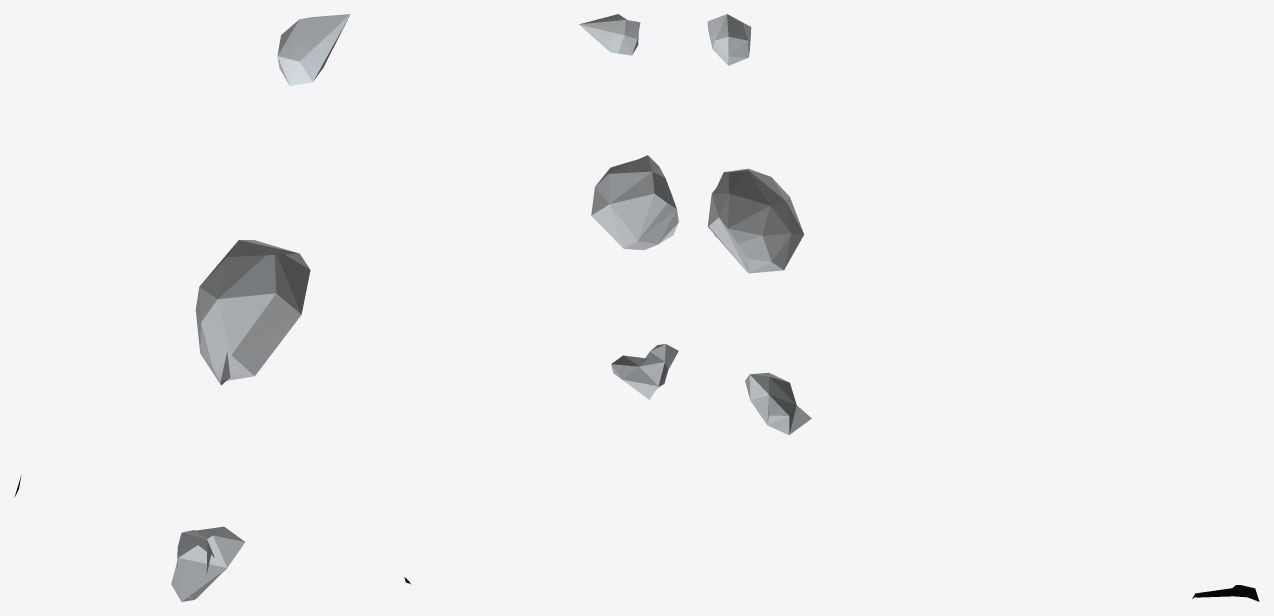
3 renders of one model, left to right at view 1: azimuth 30°, elevation 25°; view 2: azimuth 150°, elevation 25°; view 3: azimuth 270°, elevation 25°, orthographic. The views are drawn at different scales.
Bounding box in the file's own units: 0.0686 × 0.29 × 0.2562.
Materials: 1 (1 with a texture image).
